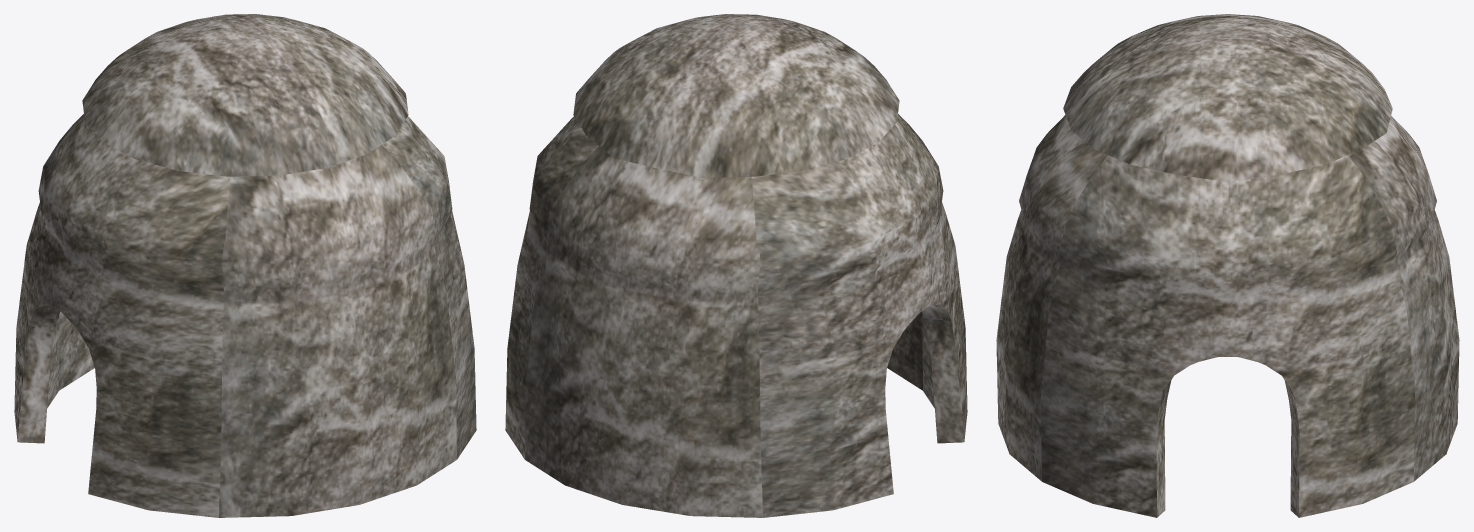
Rendered from kamado.fbx.
3 renders of one model, left to right at view 1: azimuth 30°, elevation 25°; view 2: azimuth 150°, elevation 25°; view 3: azimuth 270°, elevation 25°, orthographic.
Parts seen in each view (by area): view 1: kamado:pCylinder1; view 2: kamado:pCylinder1; view 3: kamado:pCylinder1.
Boxes of the visible parts, x1,y1,x2,y2 form: kamado:pCylinder1: (14,14,476,517); kamado:pCylinder1: (505,14,967,517); kamado:pCylinder1: (996,14,1459,517).
Bounding box in the file's own units: 2.22 × 2.16 × 2.3.
